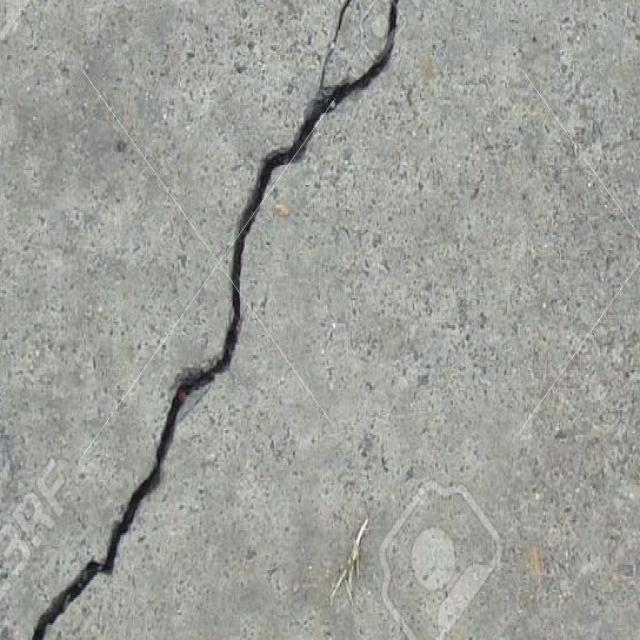crack: (218, 4, 402, 380), (31, 356, 217, 638)
